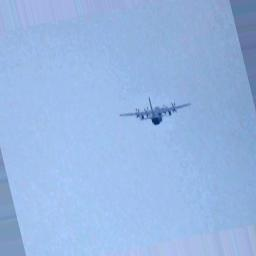Airplane: (119, 98, 191, 126)
